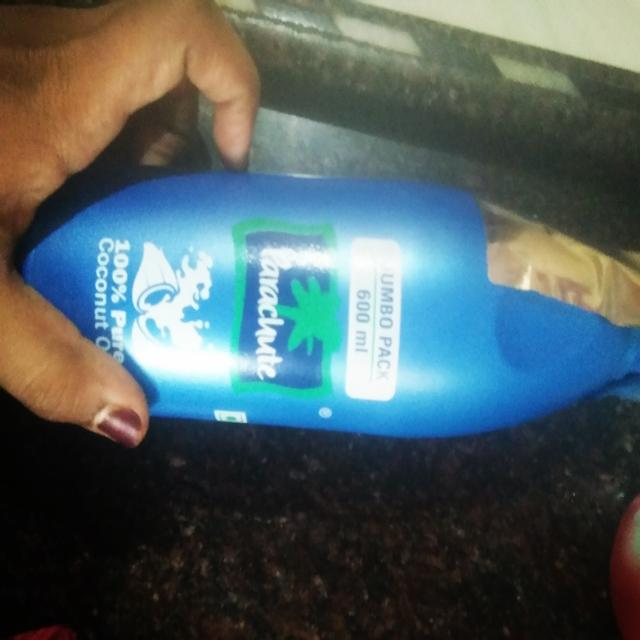parachute_oil: (26, 161, 640, 426)
